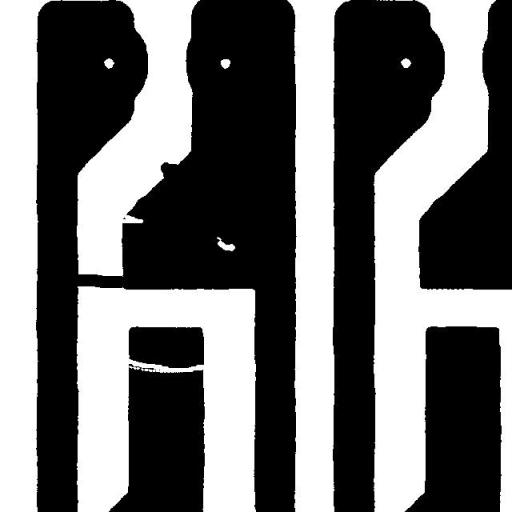mousebite: (112, 208, 150, 230)
open: (116, 350, 215, 380)
pin-hole: (209, 229, 242, 258)
short: (60, 266, 134, 296)
spur: (153, 154, 187, 188)
